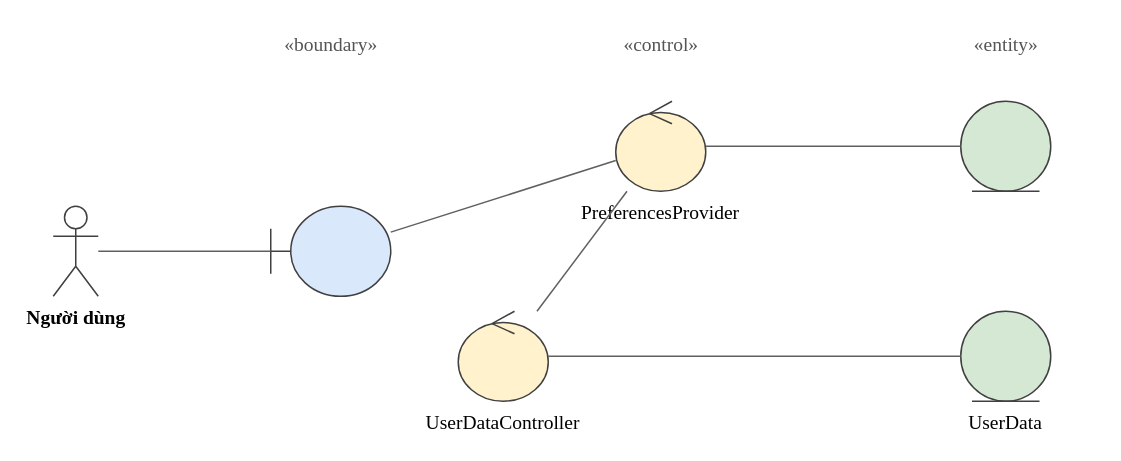
Some shapes in this 1121 by 461 pixel diagram are drawn without their labels. The box of each missing label's shape, as (x1, y1, x2, y2) in pixels:
Preferences: (959, 100, 1051, 191)
PreferencesModal: (269, 205, 391, 296)
